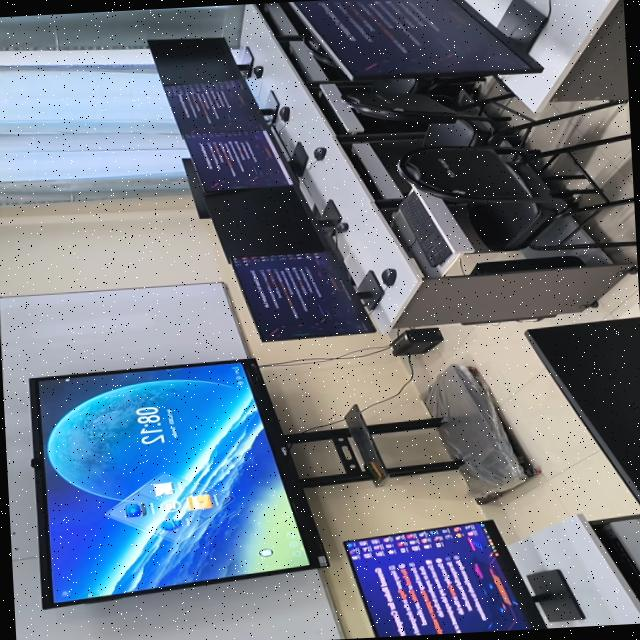Chair: (398, 133, 636, 251), (342, 90, 626, 146), (372, 77, 438, 94)
Cpu: (470, 255, 585, 275)
Digital board: (29, 357, 524, 608)
Keyboard: (400, 190, 452, 266), (597, 527, 640, 599), (346, 145, 382, 198), (312, 88, 347, 133)
Monitor: (344, 519, 584, 637), (525, 316, 640, 504), (290, 0, 547, 78), (232, 251, 384, 341), (205, 184, 343, 261), (185, 128, 308, 191), (164, 79, 280, 135), (147, 37, 253, 84), (182, 157, 209, 218)
